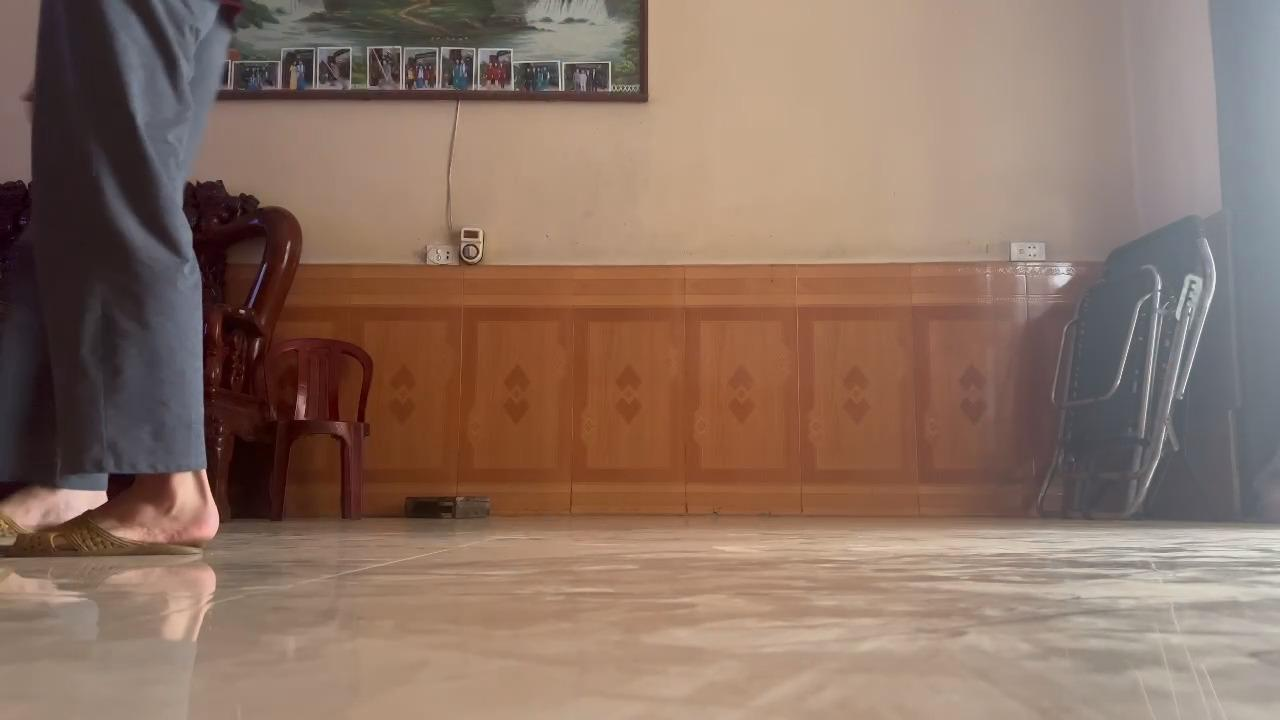no-boot: (7, 484, 241, 569)
